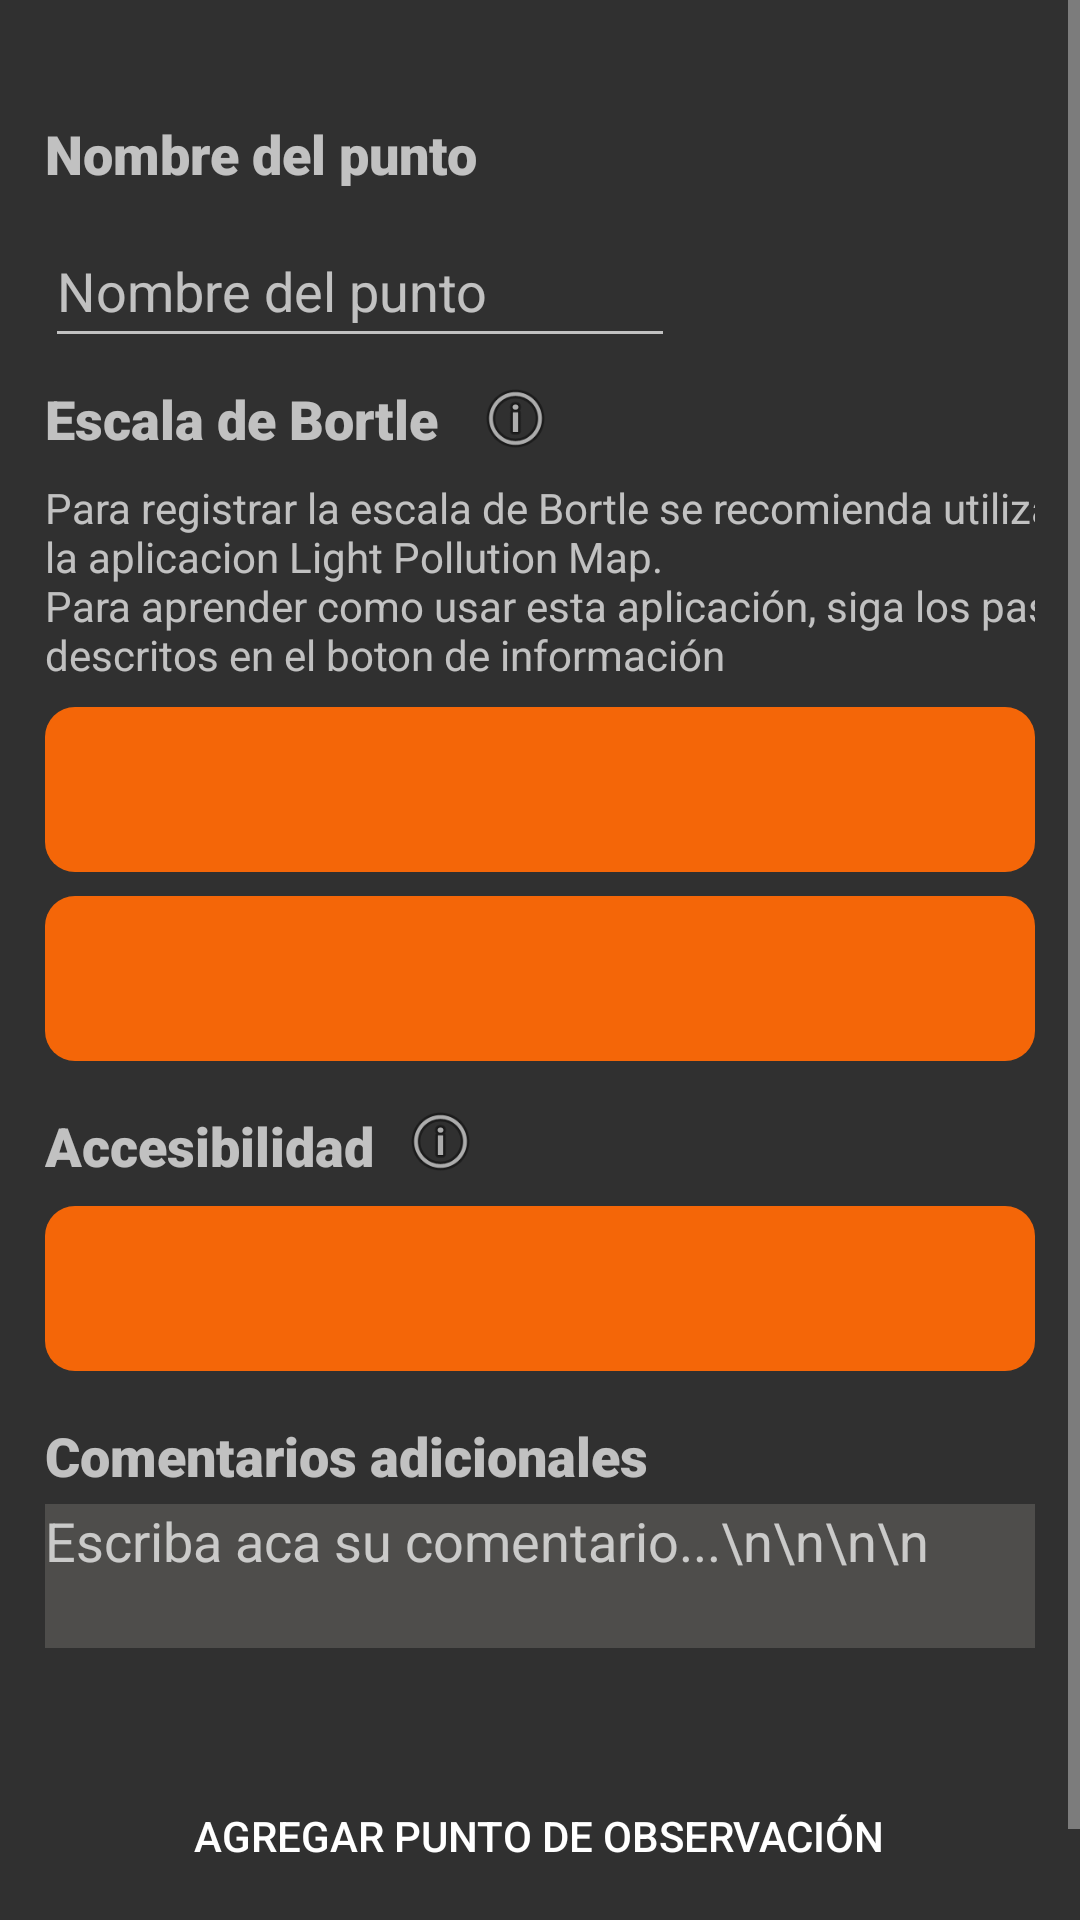

Icon bounding boxes for this 1080px×1920px phone screenshot, format (x1, y1, x2, y2):
INFO BORTLE: (489, 392, 542, 445)
